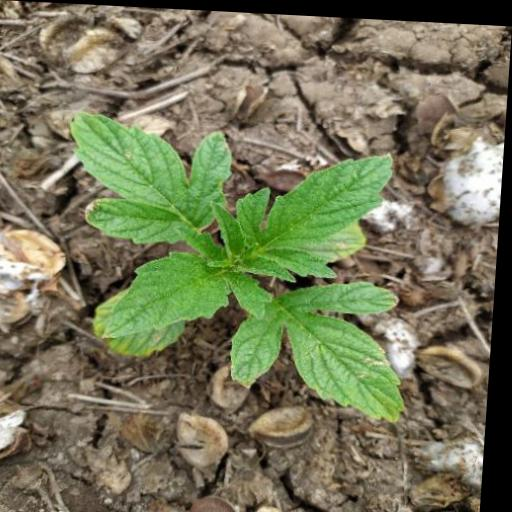crop: (42, 93, 440, 428)
